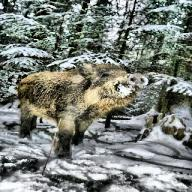boar: (14, 61, 148, 158)
